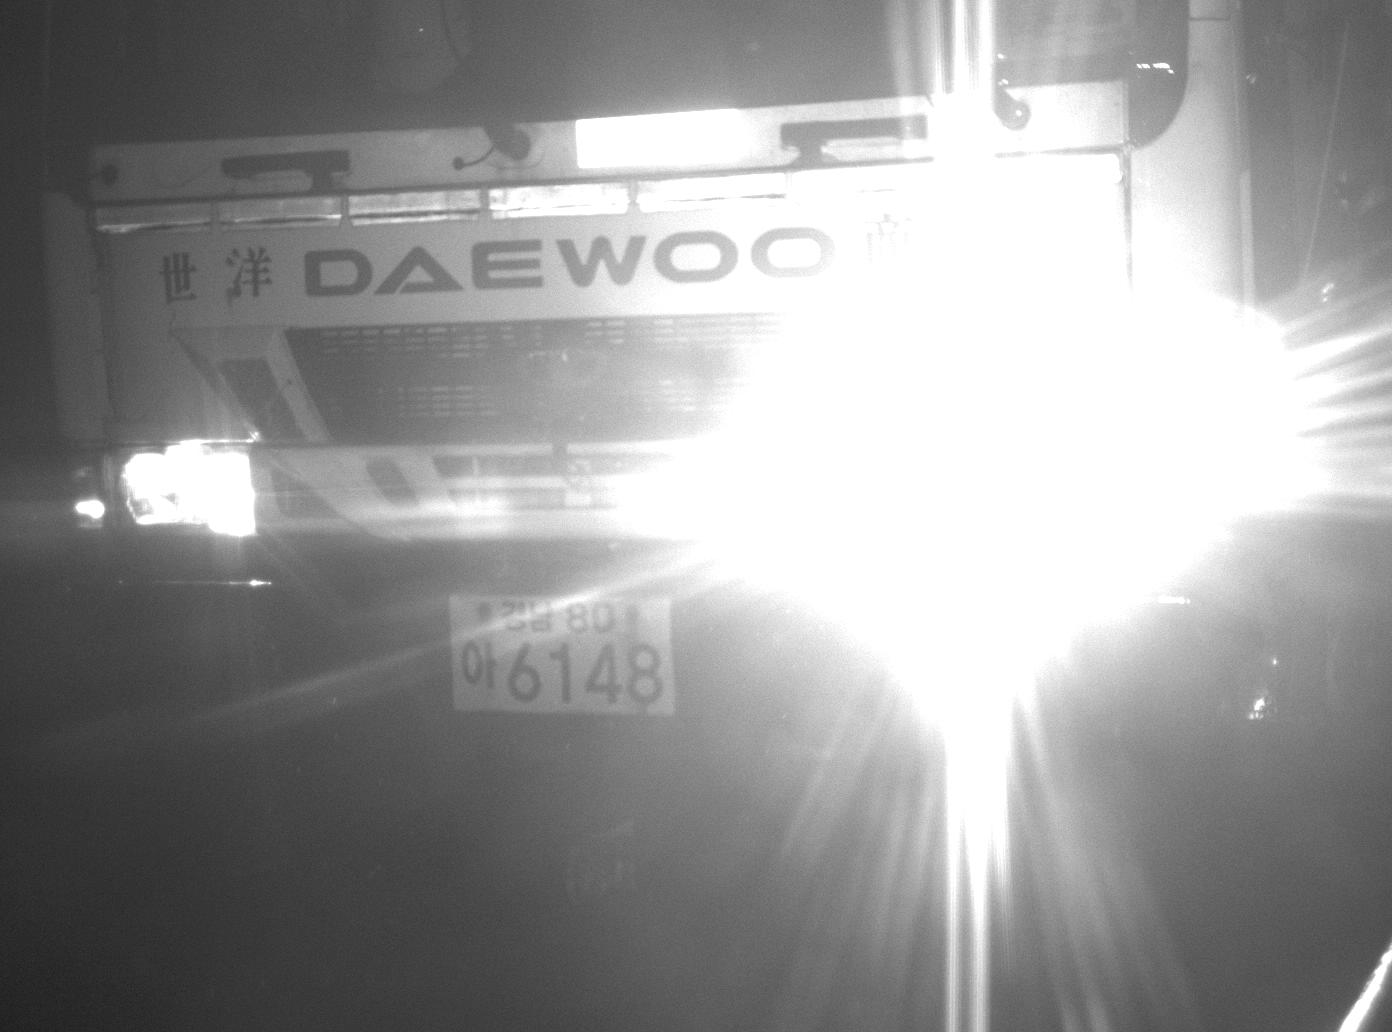car: (29, 1, 1390, 668)
plate: (442, 588, 684, 720)
